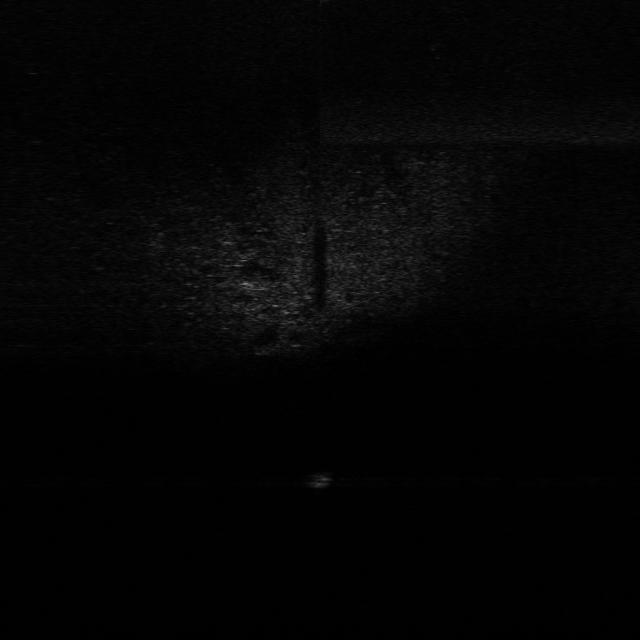cylinder: (306, 469, 336, 489)
